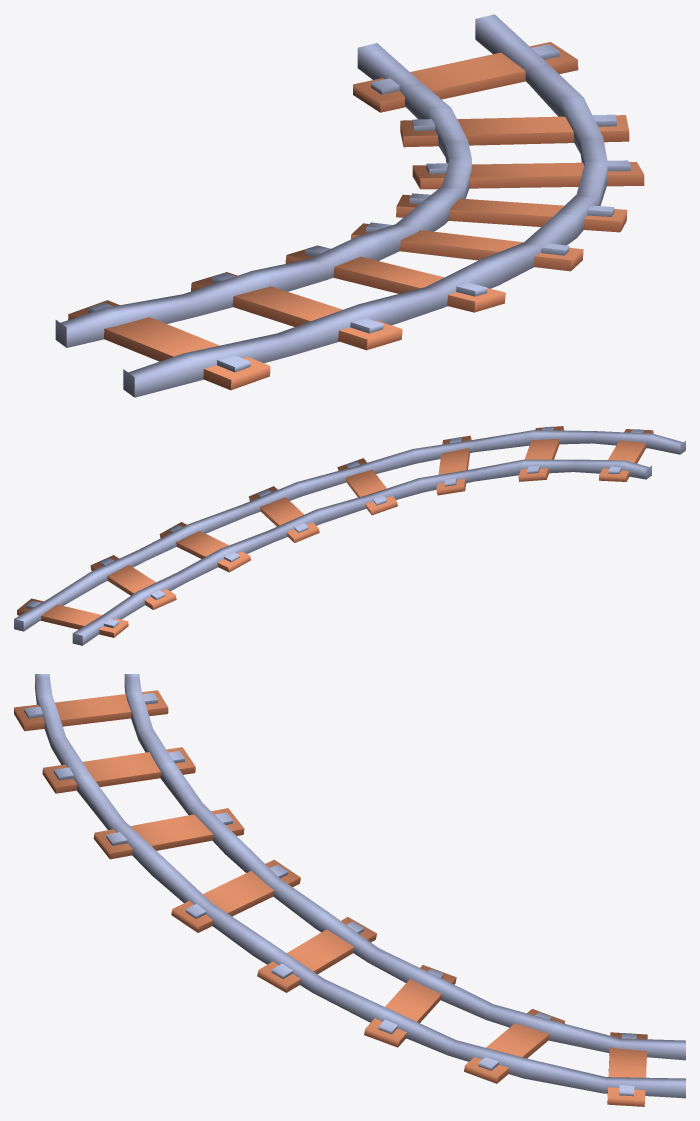
File: kenney-train-railroad-damaged-corner-large-ramp.glb
3 renders of one model, top to bottom at view 1: azimuth 30°, elevation 25°; view 2: azimuth 150°, elevation 25°; view 3: azimuth 270°, elevation 25°, orthographic. The views are drawn at different scales.
Parts seen in each view (by area): view 1: railroad-damaged-corner-large-ramp; view 2: railroad-damaged-corner-large-ramp; view 3: railroad-damaged-corner-large-ramp.
Part boxes in pixels (box(x1,y1,x2,y2)): railroad-damaged-corner-large-ramp: box(55, 14, 644, 397); railroad-damaged-corner-large-ramp: box(14, 426, 685, 645); railroad-damaged-corner-large-ramp: box(14, 674, 685, 1106).
Bounding box in the file's own units: 4.48 × 1.1 × 4.49.
1 material, 1 textured.
